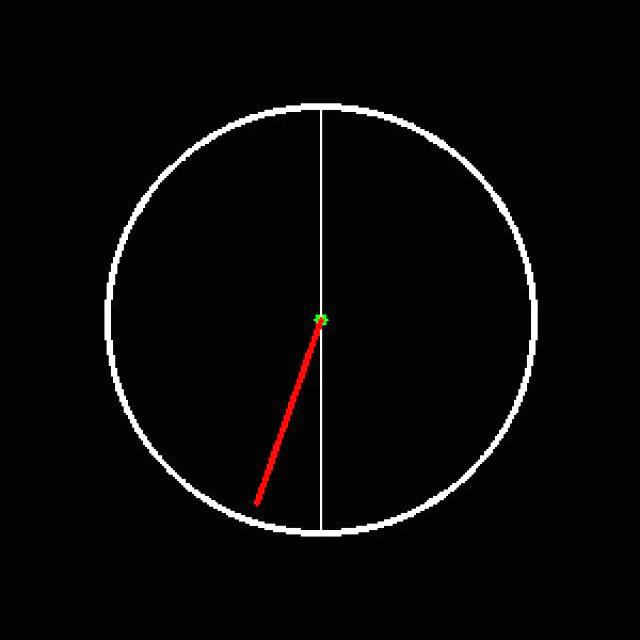Needle_Tip: (232, 479, 278, 521)
Needle_base: (299, 284, 361, 357)
